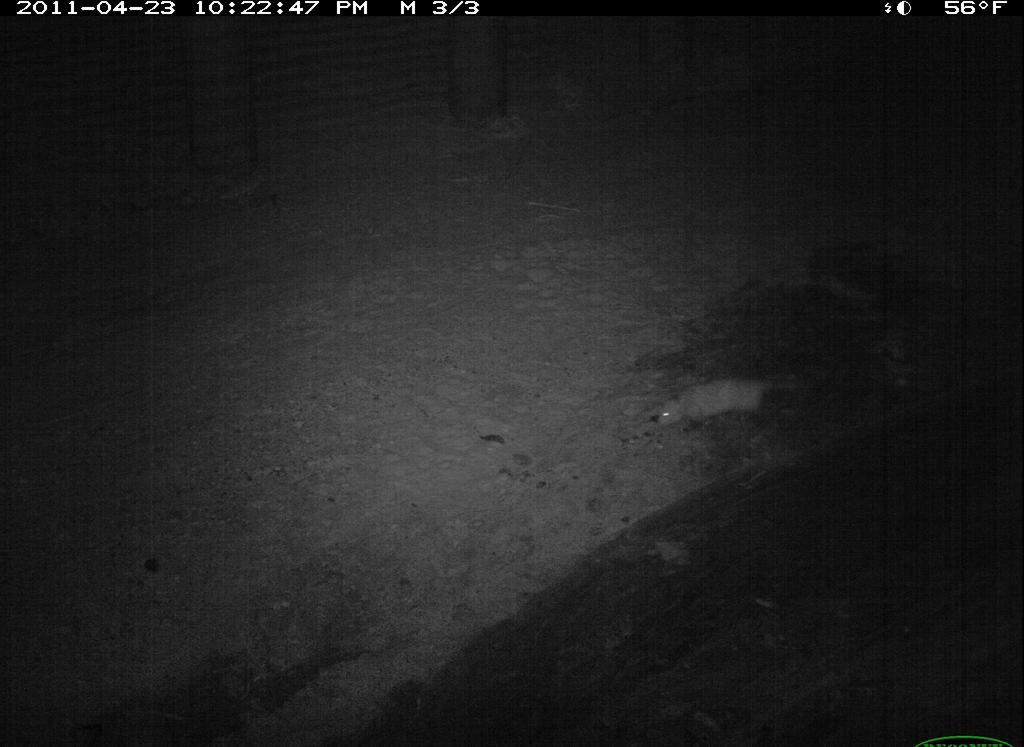opossum: (651, 369, 815, 442)
